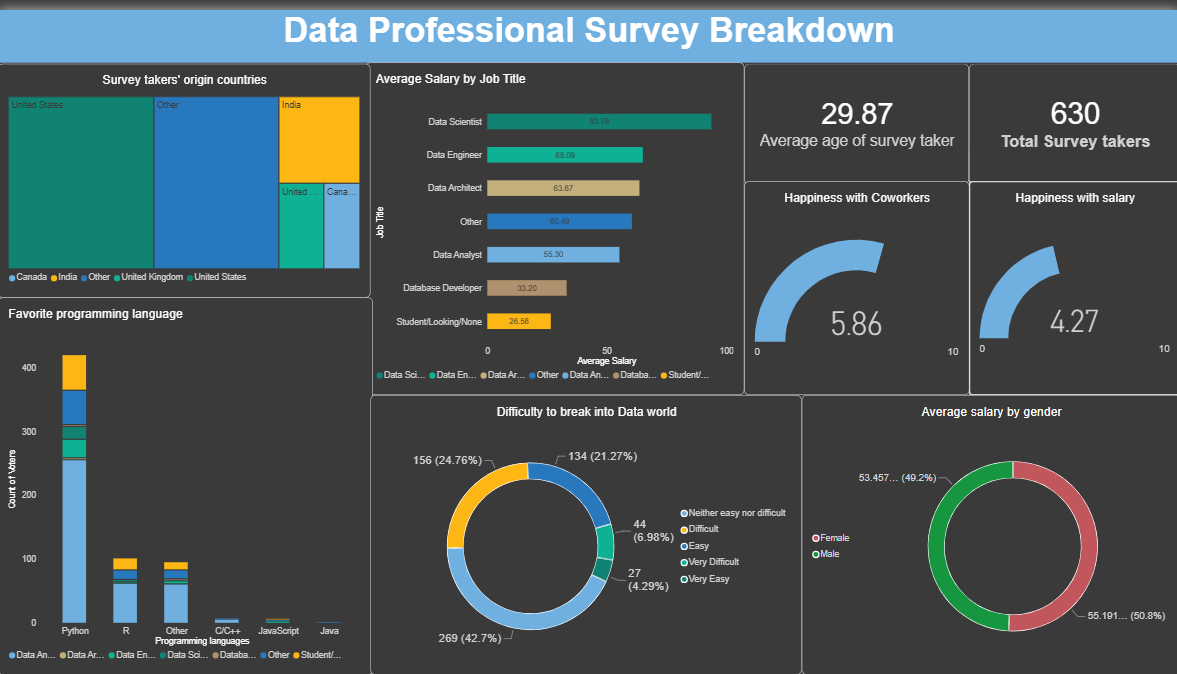

What the dashboard file says about the page in this screenshot:
{"tool":"powerbi","page":{"name":"Survey Overview","canvas":[1920,1080],"ordinal":0},"visuals":[{"type":"textbox","box":[0,0,1920.4,85.3],"z":0},{"type":"cardVisual","fields":{"Data":["Count(Data Professional Survey.Unique ID)"]},"box":[1577.3,87.3,343.1,196.9],"z":1000},{"type":"cardVisual","fields":{"Data":["Avg(Data Professional Survey.Q10 - Current Age)"]},"box":[1211.9,87.3,365.4,196.9],"z":2000},{"type":"barChart","title":"Average Salary by Job Title","fields":{"Category":["Data Professional Survey.Q1 - Which Title Best Fits your Current Role?.1"],"Series":["Data Professional Survey.Q1 - Which Title Best Fits your Current Role?.1"],"Y":["Avg(Data Professional Survey.Average Salary)"]},"box":[596.8,85.3,615.1,540],"z":3000},{"type":"columnChart","title":"Favorite programming language","fields":{"Category":["Data Professional Survey.Q5 - Favorite Programming Language.1"],"Series":["Data Professional Survey.Q1 - Which Title Best Fits your Current Role?.1"],"Y":["CountNonNull(Data Professional Survey.Q1 - Which Title Best Fits your Current Role?.1)"]},"box":[0,466.9,609,613.1],"z":4000},{"type":"treemap","title":"Survey takers'' origin countries","fields":{"Details":["Data Professional Survey.Q11 - Which Country do you live in?.1"],"Values":["CountNonNull(Data Professional Survey.Q11 - Which Country do you live in?.1)"]},"box":[0,87.3,605,379.6],"z":5000},{"type":"gauge","title":"Happiness with Coworkers","fields":{"MaxValue":["Max(Data Professional Survey.Q6 - How Happy are you in your Current Position with the following? (Coworkers))1"],"MinValue":["Min(Data Professional Survey.Q6 - How Happy are you in your Current Position with the following? (Coworkers))"],"Y":["Avg(Data Professional Survey.Q6 - How Happy are you in your Current Position with the following? (Coworkers))"]},"box":[1211.9,278.1,365.4,347.1],"z":6000},{"type":"gauge","title":"Happiness with salary","fields":{"MaxValue":["Max(Data Professional Survey.Q6 - How Happy are you in your Current Position with the following? (Salary))1"],"MinValue":["Min(Data Professional Survey.Q6 - How Happy are you in your Current Position with the following? (Salary))2"],"Y":["Avg(Data Professional Survey.Q6 - How Happy are you in your Current Position with the following? (Salary))"]},"box":[1577.3,278.1,343.1,347.1],"z":7000},{"type":"donutChart","title":"Average salary by gender","fields":{"Category":["Data Professional Survey.Q9 - Male/Female?"],"Y":["Avg(Data Professional Survey.Average Salary)"]},"box":[1305.3,625.3,615.1,454.7],"z":8000},{"type":"donutChart","title":"Difficulty to break into Data world","fields":{"Category":["Data Professional Survey.Q7 - How difficult was it for you to break into Data?"],"Y":["CountNonNull(Data Professional Survey.Q7 - How difficult was it for you to break into Data?)"]},"box":[605,625.3,700.4,454.7],"z":9000}]}

Visuals, with their boxes in screenshot pixels (x1, y1, x2, y2), scaled from the page's 1920x1080 canvas onto the 1177x674 screenshot:
textbox: rect(0, 0, 1176, 53)
cardVisual - Count(Data Professional Survey.Unique ID): rect(967, 54, 1176, 177)
cardVisual - Avg(Data Professional Survey.Q10 - Current Age): rect(743, 54, 967, 177)
"Average Salary by Job Title" barChart: rect(366, 53, 743, 390)
"Favorite programming language" columnChart: rect(0, 291, 373, 673)
"Survey takers'' origin countries" treemap: rect(0, 54, 371, 291)
"Happiness with Coworkers" gauge: rect(743, 174, 967, 390)
"Happiness with salary" gauge: rect(967, 174, 1176, 390)
"Average salary by gender" donutChart: rect(800, 390, 1176, 673)
"Difficulty to break into Data world" donutChart: rect(371, 390, 800, 673)
